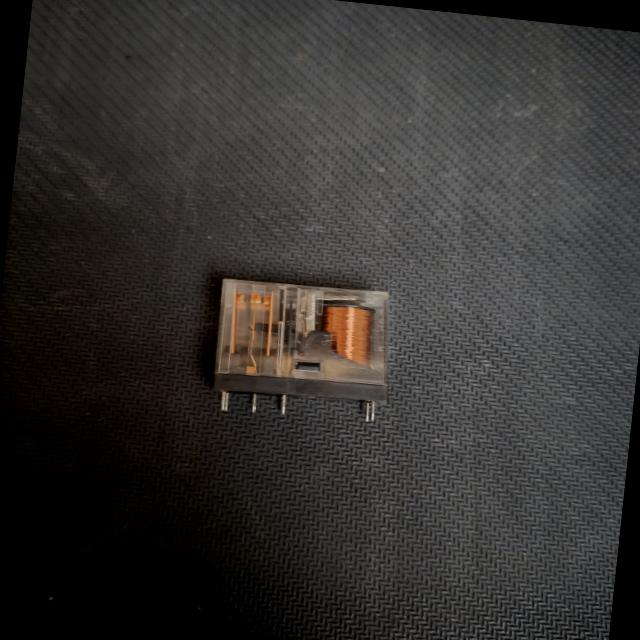relay: (184, 256, 424, 446)
